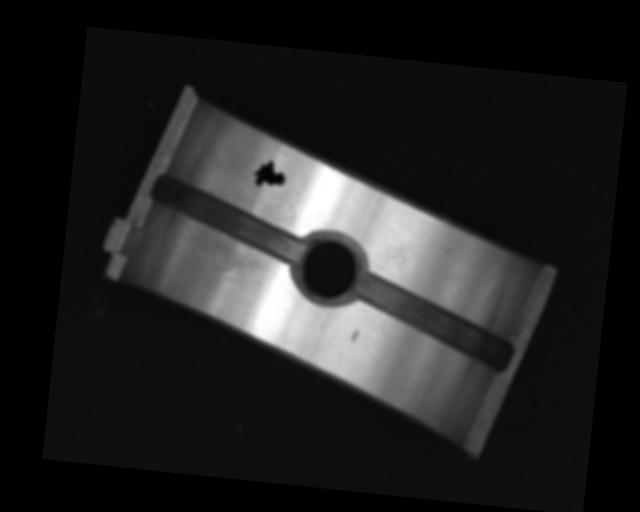blot: (250, 157, 288, 189)
bruise: (349, 327, 358, 343)
gap: (348, 272, 517, 371), (145, 173, 312, 261)
hole: (293, 228, 366, 304)
scratch: (174, 222, 277, 281)
